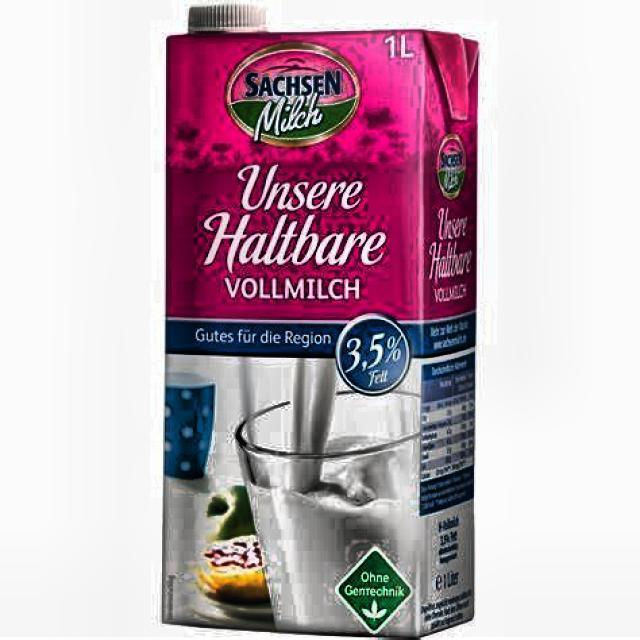cardboard: (160, 11, 480, 638)
